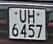4: (20, 23, 28, 40)
5: (27, 23, 36, 40)
6: (11, 22, 20, 39)
7: (36, 23, 44, 40)
H: (27, 8, 36, 25)
U: (19, 9, 27, 25)
